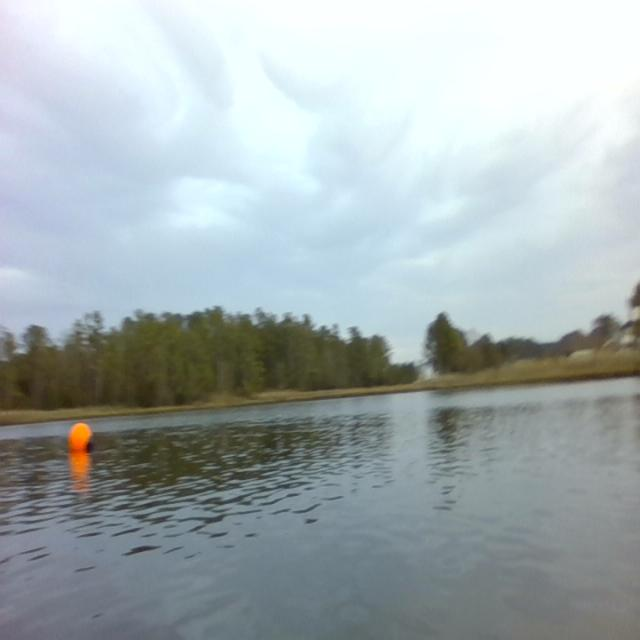Buoy: (66, 419, 97, 458)
